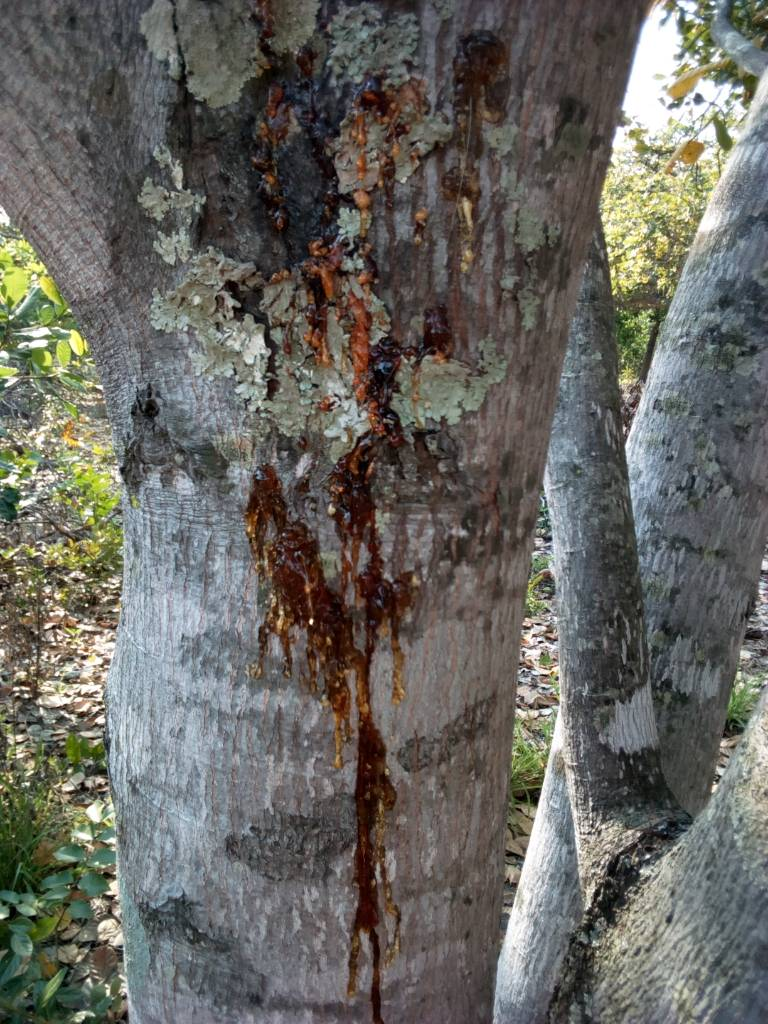Gommose: (252, 464, 424, 1019), (257, 47, 485, 441)
